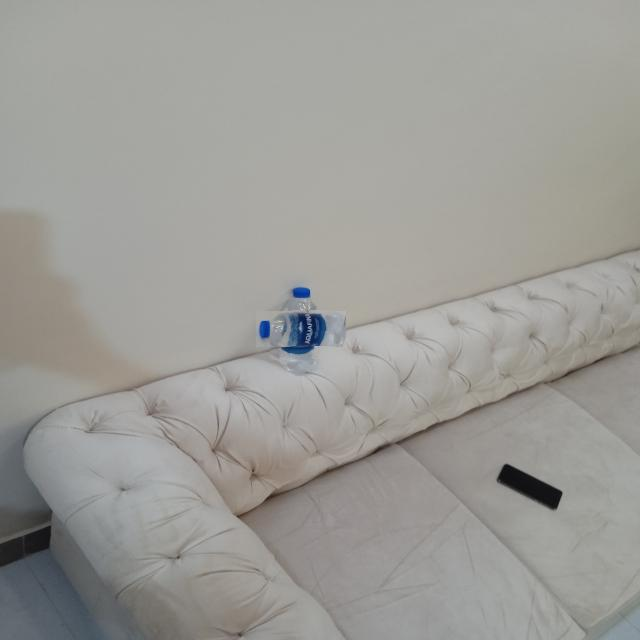Plastic: (270, 298, 333, 360)
